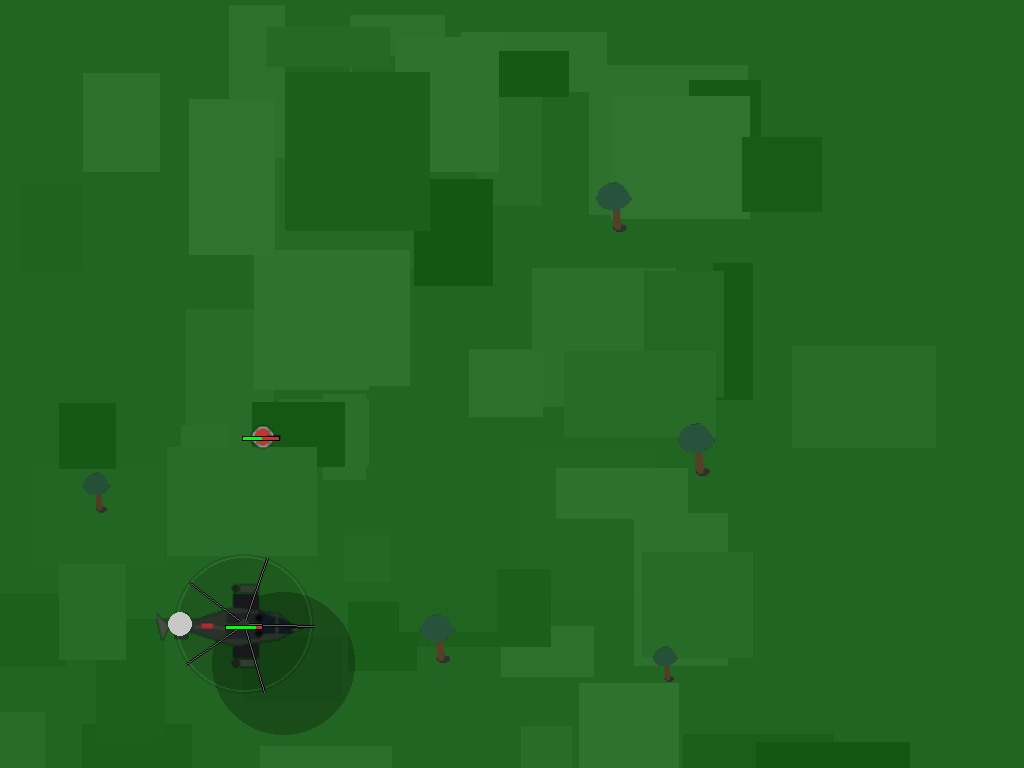Rifleman: (240, 414, 282, 456)
WZ10: (193, 574, 294, 675)
